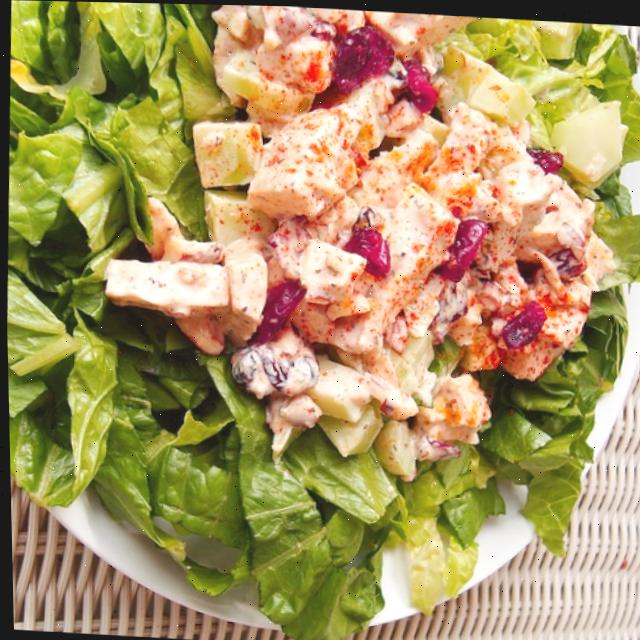鸡肉料理 含炸鸡: (26, 0, 593, 583)
